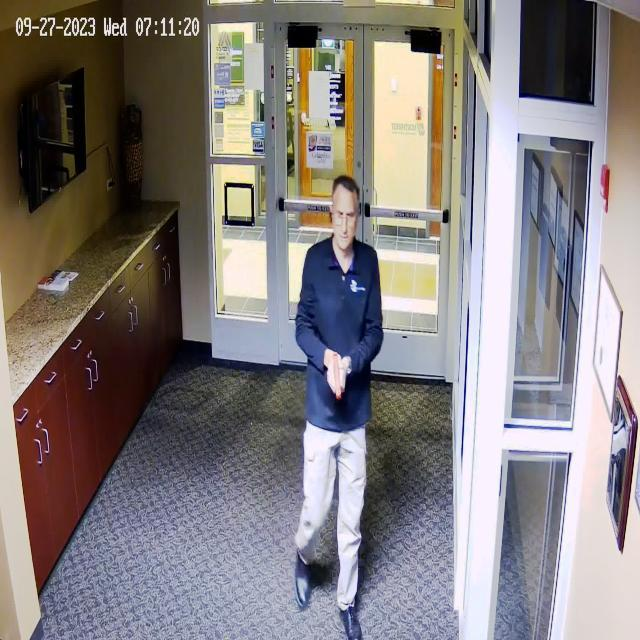Gun: (326, 350, 359, 408)
